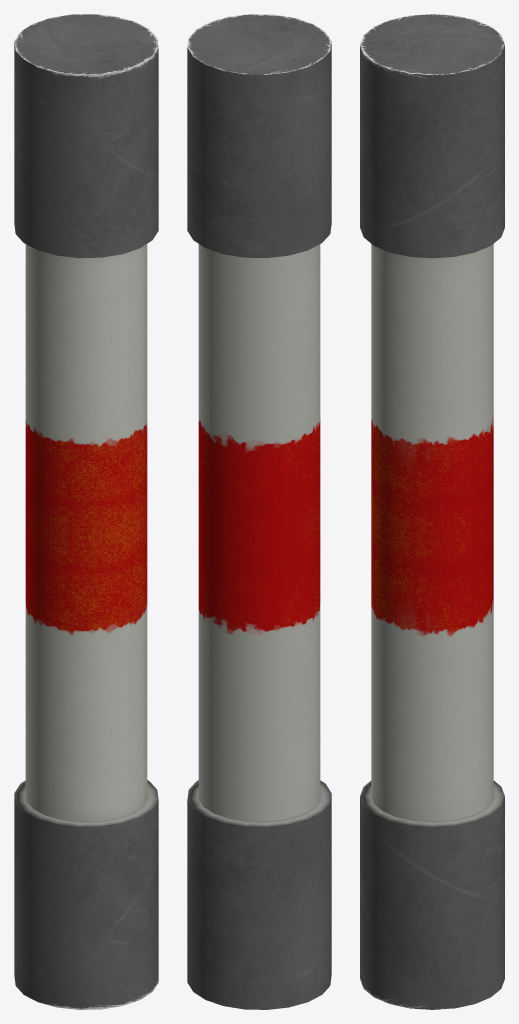
File: Fusivel_R.fbx
3 views of the same model, side by side, from view 1: azimuth 30°, elevation 25°; view 2: azimuth 150°, elevation 25°; view 3: azimuth 270°, elevation 25° (orthographic).
Parts seen in each view (by area): view 1: Fusivel_R4; view 2: Fusivel_R4; view 3: Fusivel_R4.
Boxes of the visible parts, x1,y1,x2,y2 form: Fusivel_R4: (14, 14, 158, 1009); Fusivel_R4: (187, 14, 331, 1009); Fusivel_R4: (360, 14, 504, 1009).
Size of the model in its own units: 4.09 by 29.1 by 4.09.
